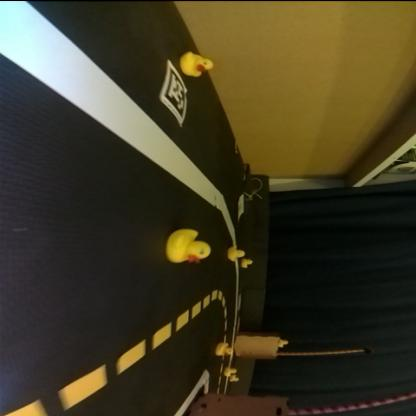Duckie: (168, 228, 212, 264), (180, 52, 214, 76), (215, 342, 234, 356), (228, 247, 247, 261), (241, 257, 254, 268), (226, 367, 236, 377), (280, 339, 289, 347), (231, 376, 240, 382)
QR code: (160, 62, 190, 125)
